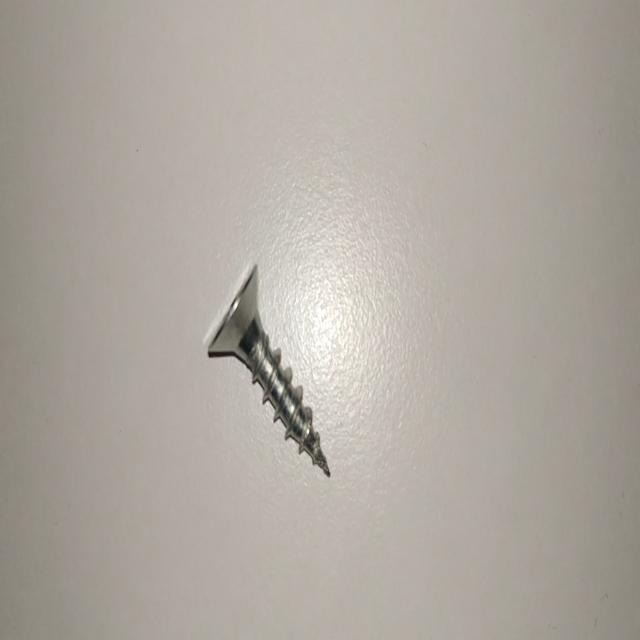Screw: (208, 264, 330, 476)
